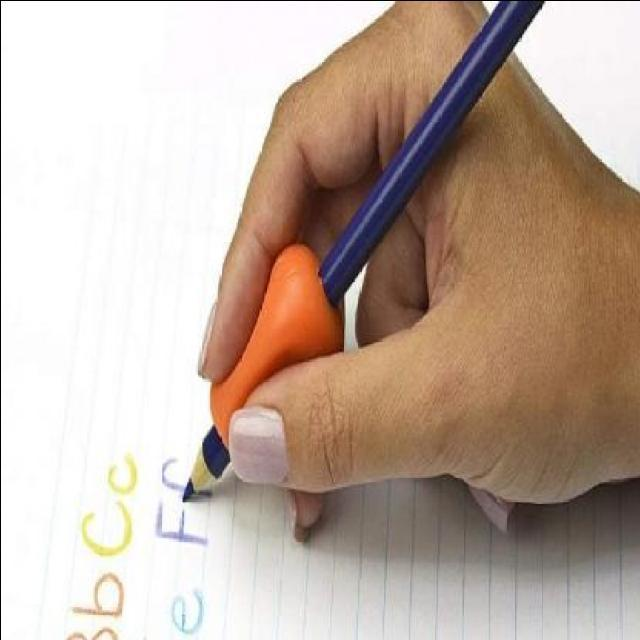pencil: (176, 426, 222, 508)
